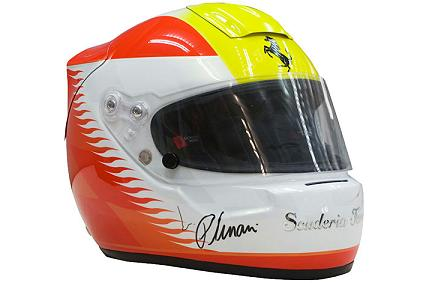helmet: (63, 15, 356, 269)
